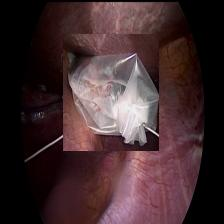Specimen Bag: (62, 33, 158, 150)
